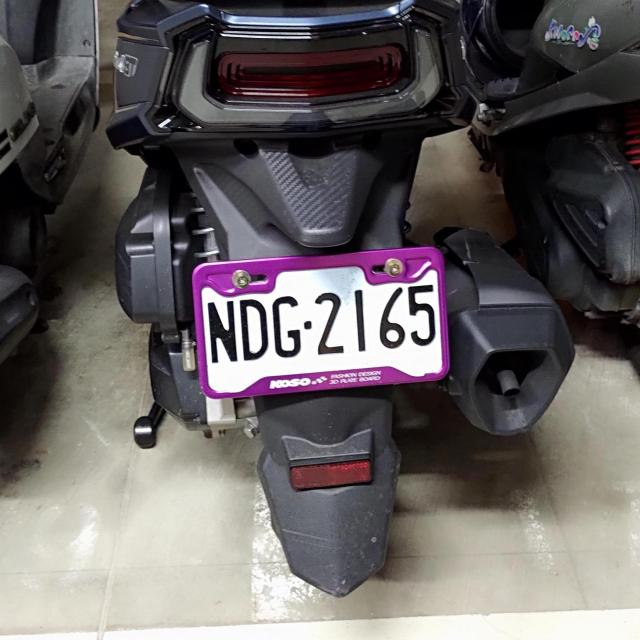W: (190, 248, 453, 395)
